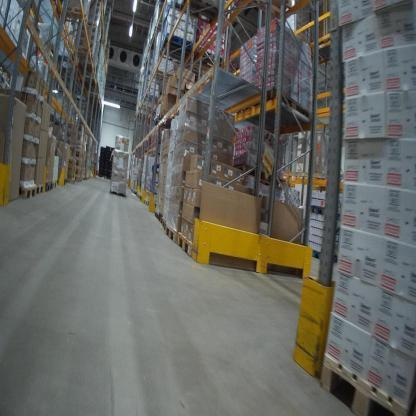pallet: (319, 356, 407, 416)
